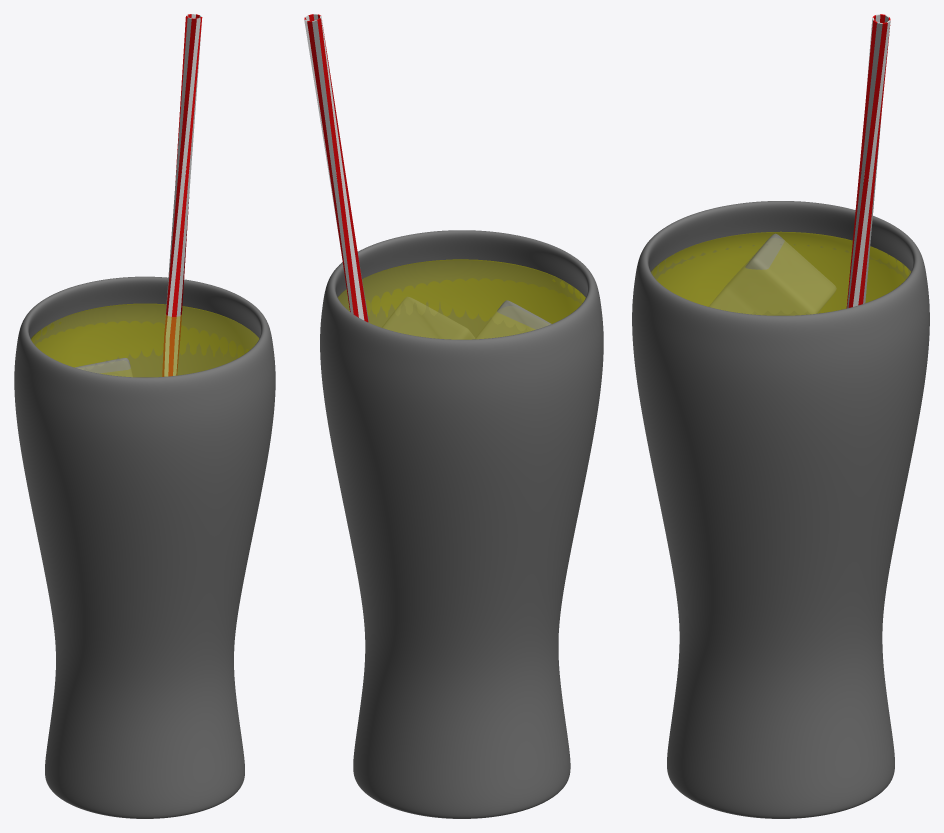
File: drink.glb
3 views of the same model, side by side, from view 1: azimuth 30°, elevation 25°; view 2: azimuth 150°, elevation 25°; view 3: azimuth 270°, elevation 25° (orthographic). The views are drawn at different scales.
Parts seen in each view (by area): view 1: Cylinder, Cylinder.001, Cylinder.002, Cube.002; view 2: Cylinder, Cylinder.001, Cylinder.002, Cube.001, Cube.002; view 3: Cylinder, Cylinder.001, Cube.002, Cylinder.002.
Boxes of the visible parts, <box> form: Cylinder: <box>14,276,275,818</box>; Cylinder.001: <box>31,303,259,377</box>; Cylinder.002: <box>162,14,202,376</box>; Cube.002: <box>74,357,132,376</box>; Cylinder: <box>320,230,603,818</box>; Cylinder.001: <box>337,259,585,339</box>; Cylinder.002: <box>304,14,369,322</box>; Cube.001: <box>382,297,474,339</box>; Cube.002: <box>475,300,551,338</box>; Cylinder: <box>632,201,929,818</box>; Cylinder.001: <box>651,231,910,315</box>; Cube.002: <box>709,233,836,315</box>; Cylinder.002: <box>846,14,890,308</box>.
Size of the model in its own units: 255 by 764 by 255.
